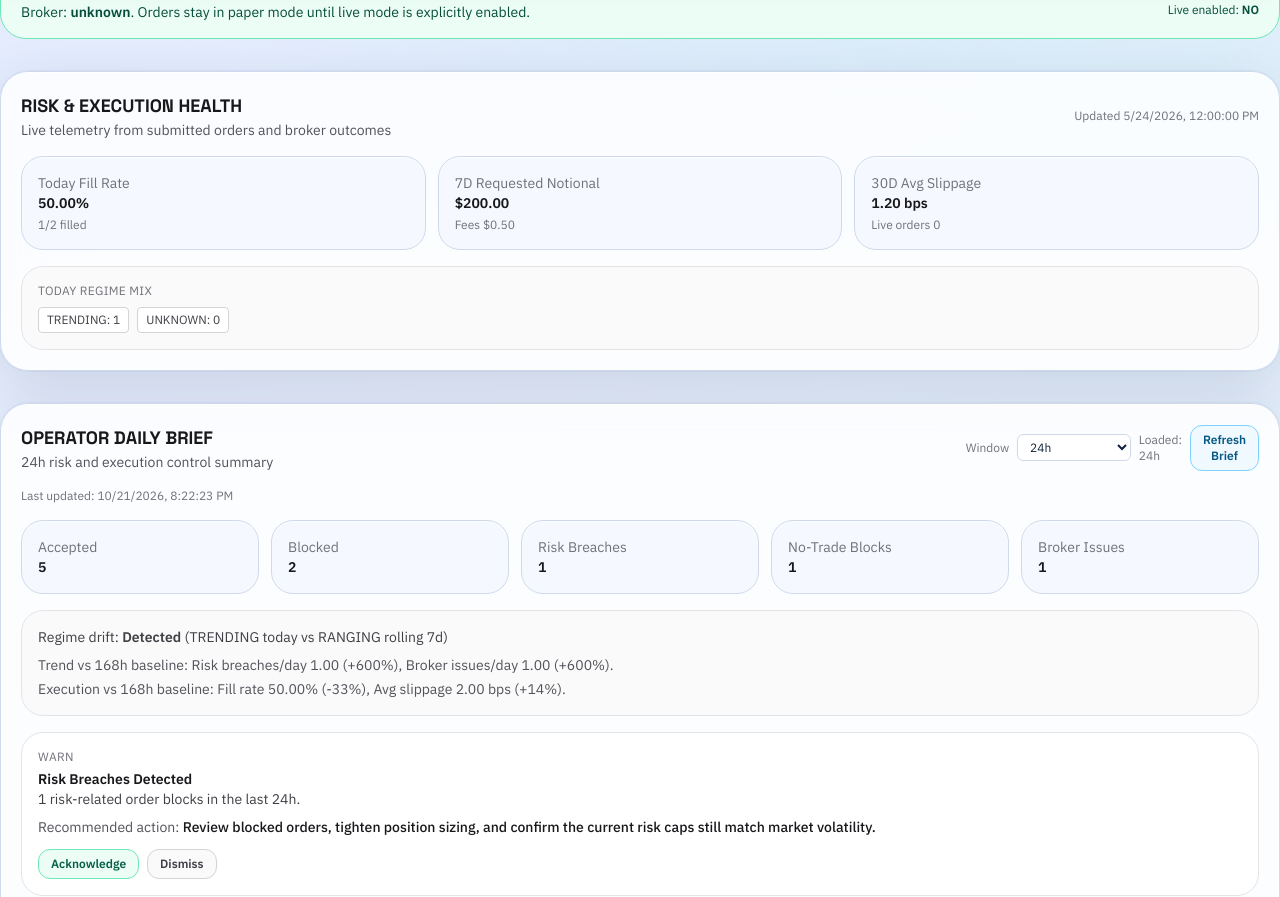
Test: TradingSignals › refreshes the operator brief on demand
(page scrolled)
Expected: the heading "Operator Daily Brief" is shown, [21,426,213,448]
Click the button "Refresh Brief".
click(1224, 448)  # box [1190,424,1259,470]
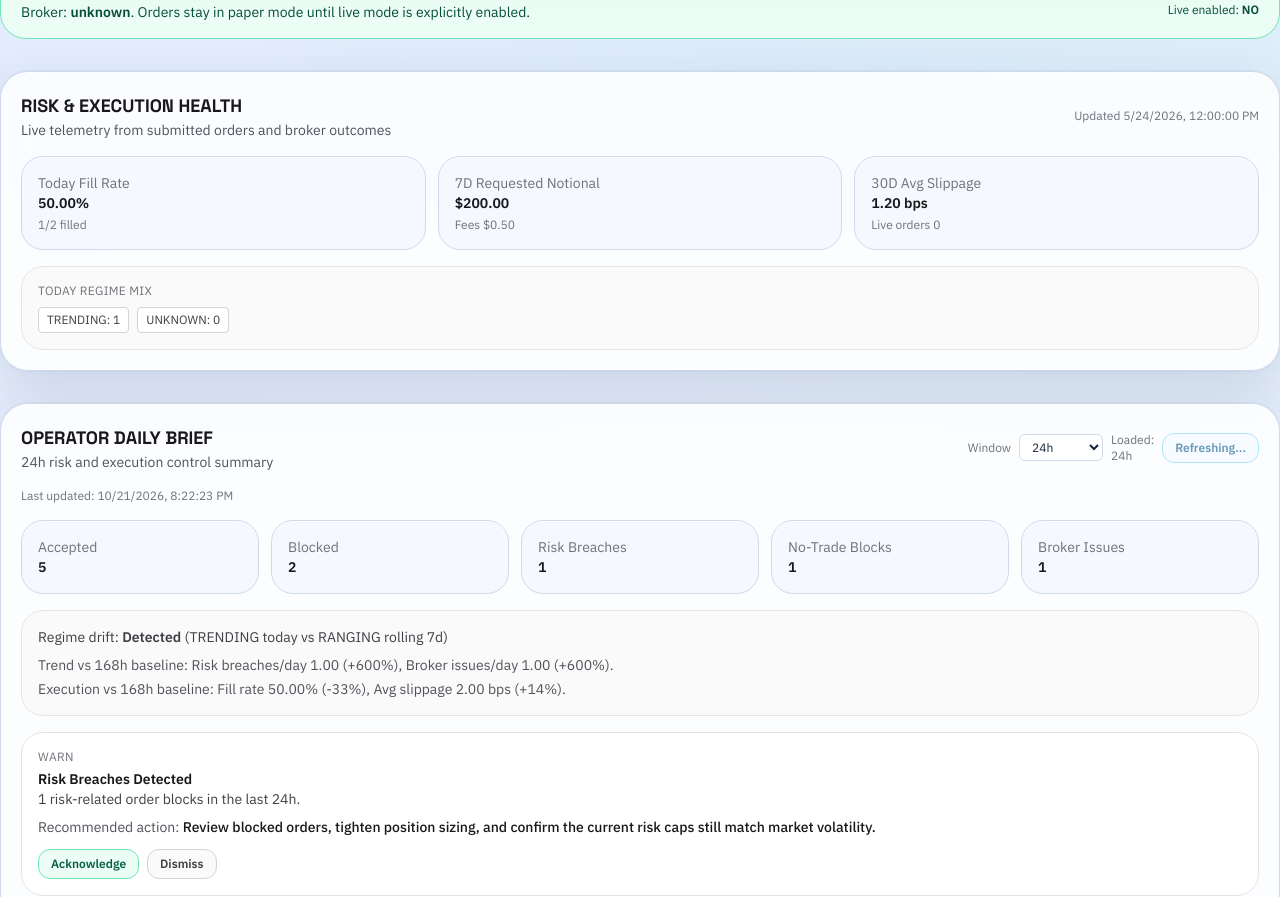
Expected: the text "Last updated: 10/21/2026, 8:22:23 PM" is shown, [21,488,233,502]
Result: the button "Refreshing..." is disabled at [1162,432,1259,462]
